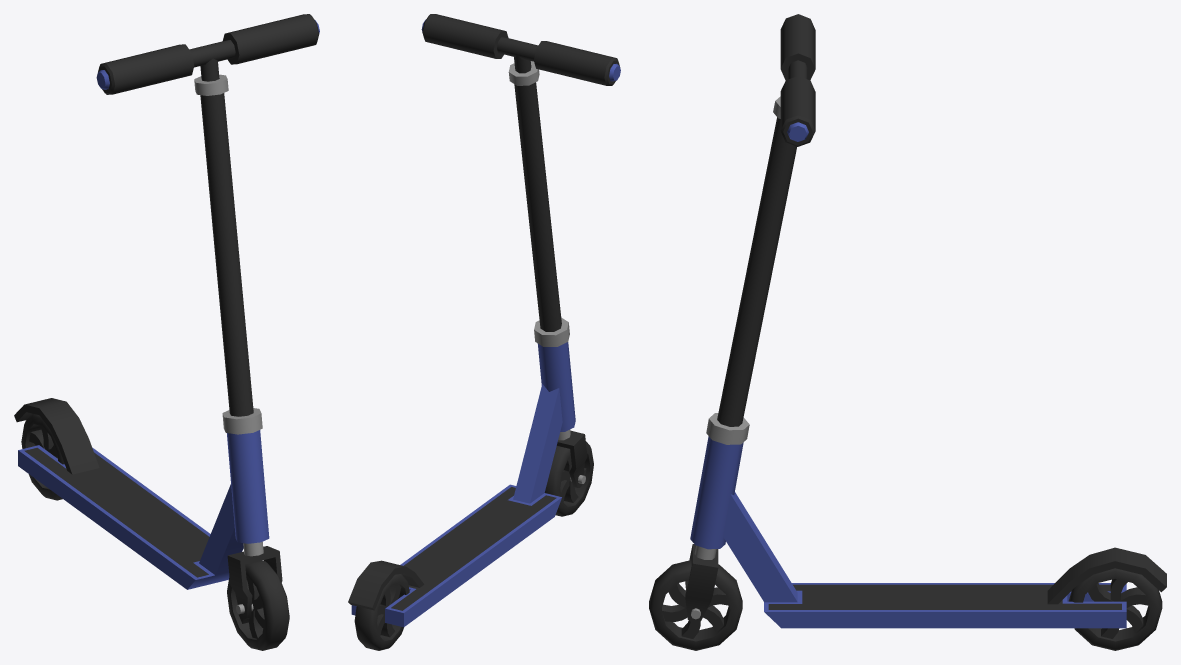
The model's file is Scooter_01.fbx.
3 views of the same model, side by side, from view 1: azimuth 30°, elevation 25°; view 2: azimuth 150°, elevation 25°; view 3: azimuth 270°, elevation 25° (orthographic). The views are drawn at different scales.
Visible parts, largest first — view 1: Scooter_01, Scooter_01_Handlebars, Scooter_01_Wheel_F, Scooter_01_Wheel_B; view 2: Scooter_01, Scooter_01_Handlebars, Scooter_01_Wheel_B, Scooter_01_Wheel_F; view 3: Scooter_01, Scooter_01_Handlebars, Scooter_01_Wheel_F, Scooter_01_Wheel_B.
Part boxes in pixels (box(x1,y1,x2,y2)): Scooter_01: box(14, 398, 269, 589); Scooter_01_Handlebars: box(96, 14, 319, 619); Scooter_01_Wheel_F: box(227, 560, 289, 650); Scooter_01_Wheel_B: box(21, 413, 64, 500); Scooter_01: box(348, 317, 575, 627); Scooter_01_Handlebars: box(421, 14, 620, 487); Scooter_01_Wheel_B: box(354, 574, 409, 650); Scooter_01_Wheel_F: box(544, 441, 593, 516); Scooter_01: box(690, 413, 1166, 628); Scooter_01_Handlebars: box(685, 14, 815, 622); Scooter_01_Wheel_F: box(649, 560, 742, 650); Scooter_01_Wheel_B: box(1068, 568, 1162, 650).
Size of the model in its own units: 0.4147 by 1.05 by 0.8493.
